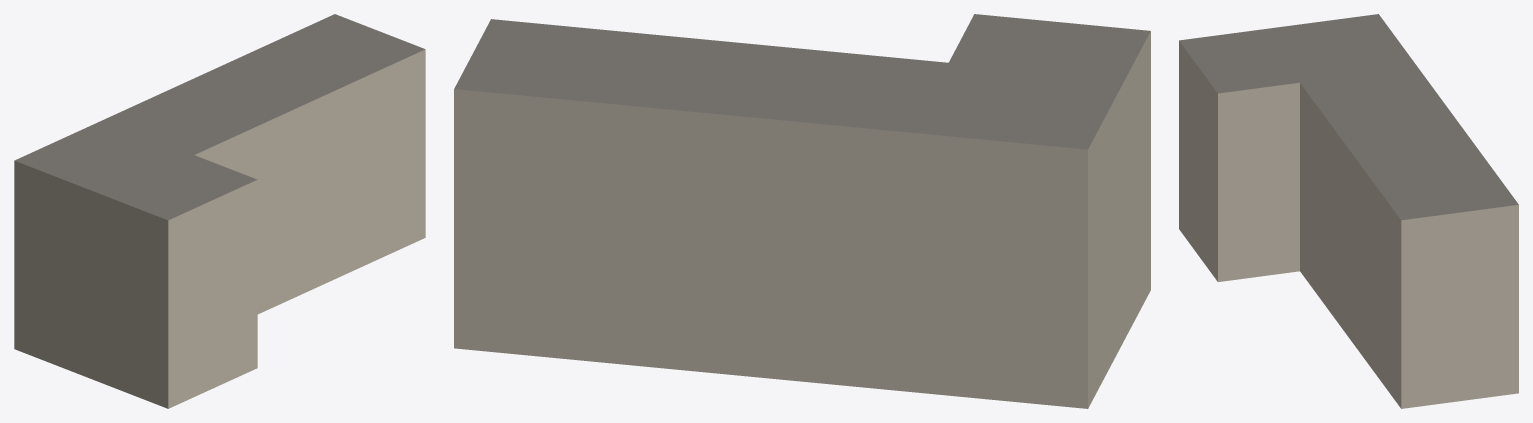
3 views of the same model, side by side, from view 1: azimuth 30°, elevation 25°; view 2: azimuth 150°, elevation 25°; view 3: azimuth 270°, elevation 25° (orthographic). The views are drawn at different scales.
Parts seen in each view (by area): view 1: HP-w369317597; view 2: HP-w369317597; view 3: HP-w369317597.
Boxes of the visible parts, x1,y1,x2,y2 form: HP-w369317597: [14, 14, 425, 408]; HP-w369317597: [454, 14, 1150, 408]; HP-w369317597: [1179, 14, 1518, 408].
Size of the model in its own units: 42.23 by 18 by 29.4.
